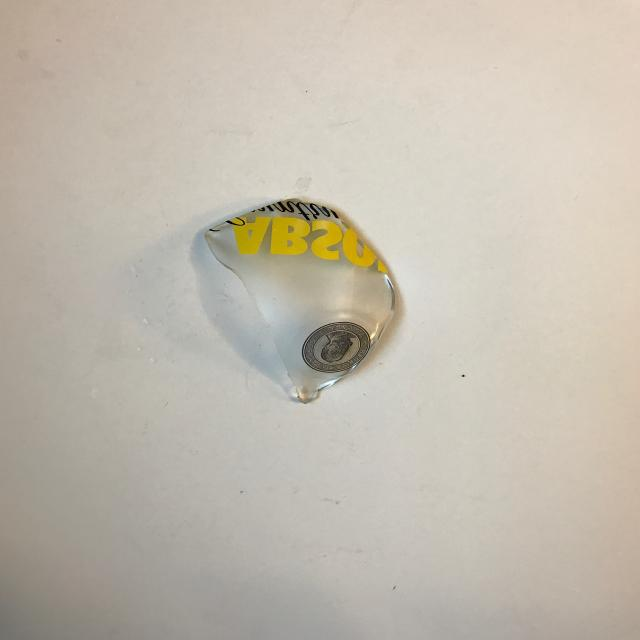glass: (202, 198, 396, 404)
